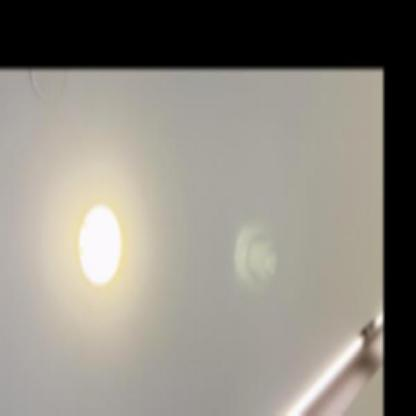light_on: (217, 332, 368, 415), (75, 184, 132, 296), (372, 308, 384, 336)
